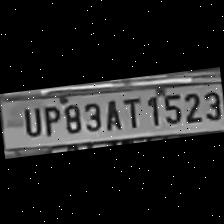1: (140, 91, 160, 126)
2: (179, 88, 203, 124)
3: (197, 85, 222, 121), (80, 96, 102, 131)
5: (158, 87, 182, 125)
8: (58, 99, 82, 134)
A: (99, 95, 123, 131)
P: (37, 100, 61, 135)
T: (119, 92, 144, 130)
U: (18, 102, 42, 136)
